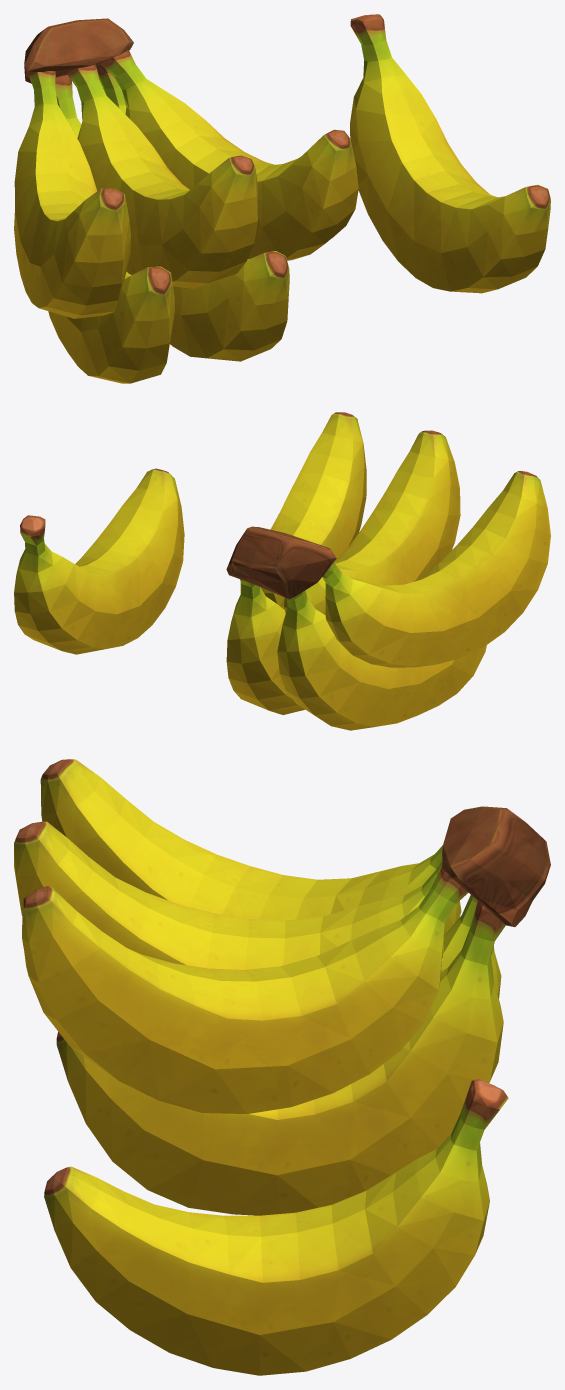
File: banana.FBX
The picture shows the model from 3 angles, top to bottom: view 1: azimuth 30°, elevation 25°; view 2: azimuth 150°, elevation 25°; view 3: azimuth 270°, elevation 25°; orthographic projection. The views are drawn at different scales.
Parts seen in each view (by area): view 1: bananas, bnana; view 2: bananas, bnana; view 3: bananas, bnana.
Part boxes in pixels (<box>): bananas: <box>14,18,358,383</box>; bnana: <box>350,14,550,293</box>; bananas: <box>226,412,550,730</box>; bnana: <box>14,468,184,654</box>; bananas: <box>14,759,550,1215</box>; bnana: <box>44,1079,508,1375</box>.
Bounding box in the file's own units: 41.41 × 29.23 × 20.93.
Materials: 1 (1 with a texture image).
